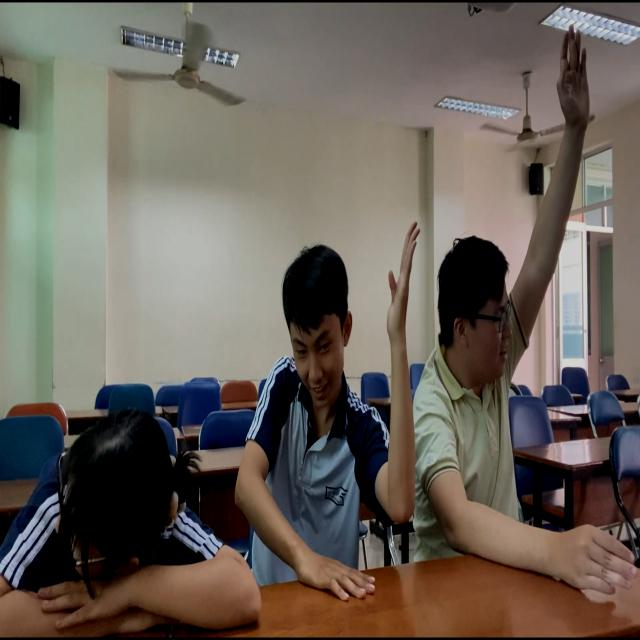raise_hand: (414, 8, 640, 633)
sleep: (4, 348, 278, 640)
